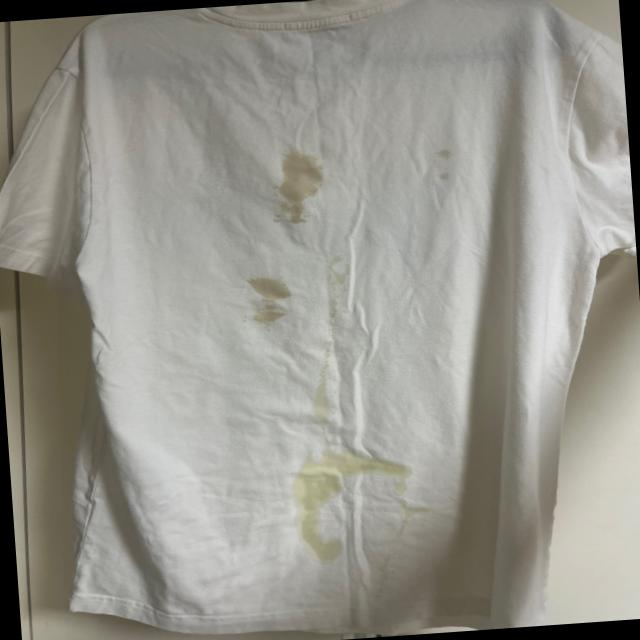stain: (284, 439, 421, 502), (301, 296, 358, 426), (268, 138, 334, 228), (228, 262, 300, 336), (281, 492, 351, 568), (380, 489, 434, 538), (324, 246, 364, 296), (429, 138, 460, 184)
